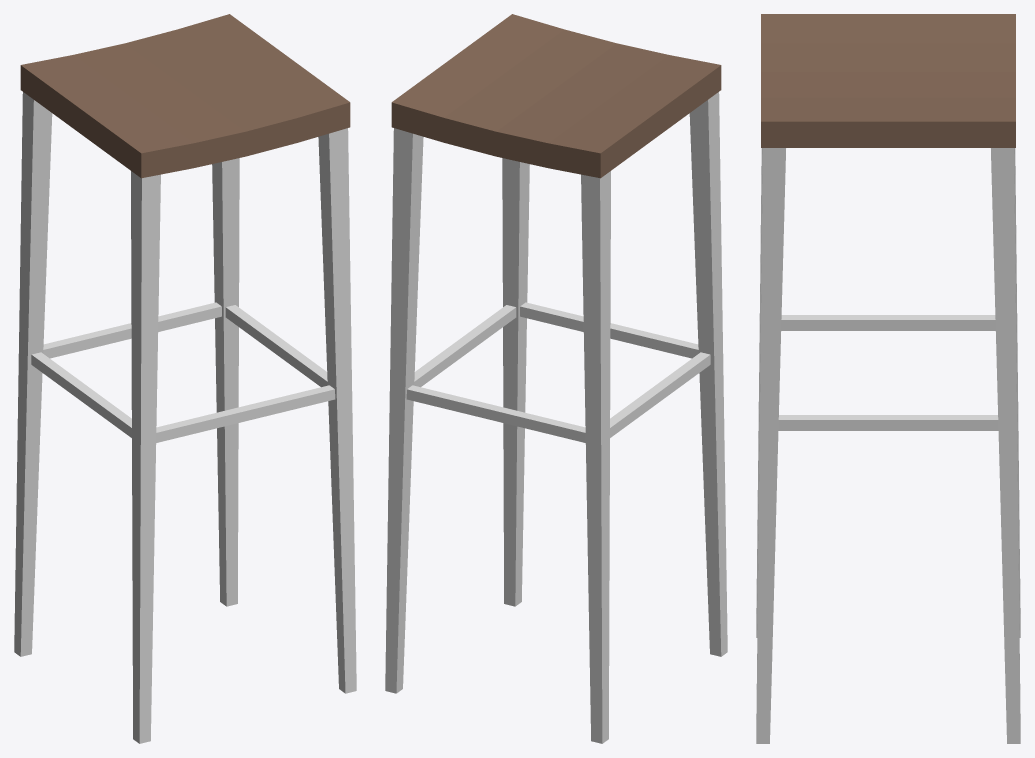
File: Chair_08_C1.fbx
3 renders of one model, left to right at view 1: azimuth 30°, elevation 25°; view 2: azimuth 150°, elevation 25°; view 3: azimuth 270°, elevation 25°, orthographic. The views are drawn at different scales.
Parts seen in each view (by area): view 1: Chair_08_C1; view 2: Chair_08_C1; view 3: Chair_08_C1.
Boxes of the visible parts, x1,y1,x2,y2 form: Chair_08_C1: [14, 14, 356, 743]; Chair_08_C1: [385, 14, 727, 743]; Chair_08_C1: [756, 14, 1020, 743].
Size of the model in its own units: 33.75 by 87.3 by 33.75.
